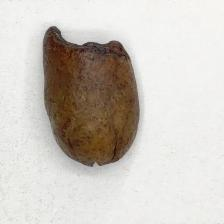NG: (48, 21, 130, 66)
